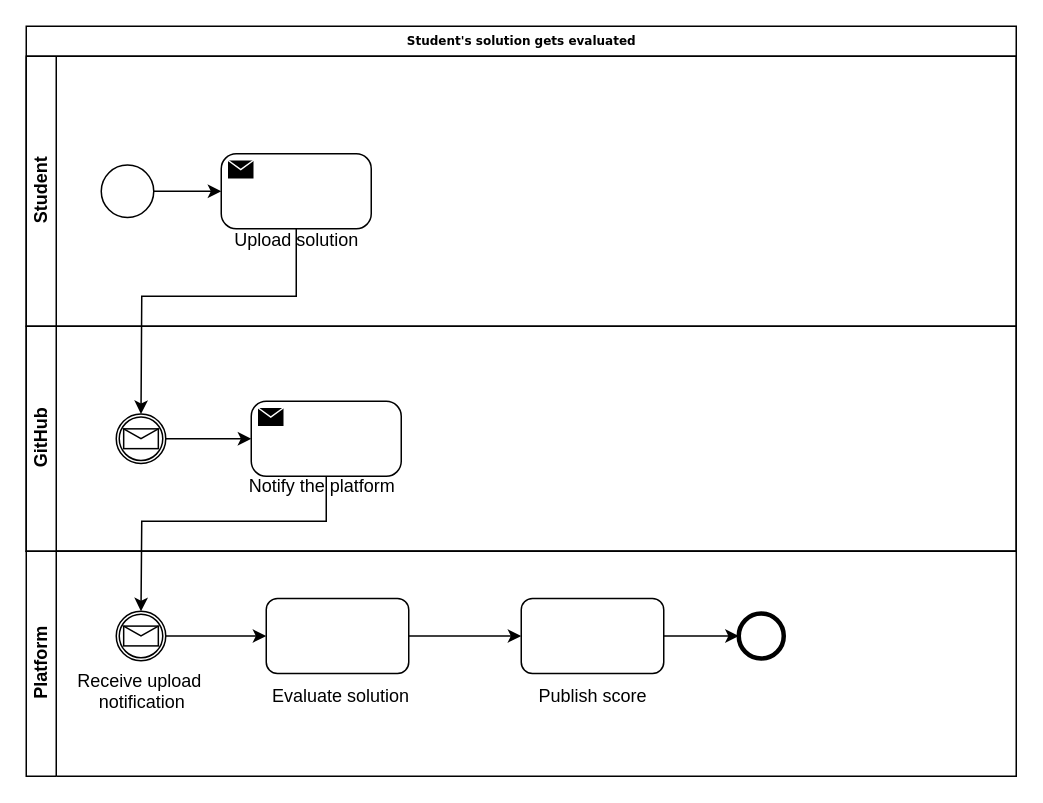
Image size: 1043x803. Some labels were removed from this diagram. Each missing label, with the centre of its shape:
GitHub Actions: point (325, 438)
Receive solution: point (140, 438)
